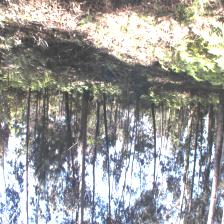trunktrack_idkeyframe: (80, 88, 89, 187), (185, 100, 198, 157), (101, 92, 109, 142), (150, 100, 157, 150), (208, 101, 214, 155), (64, 90, 72, 130), (26, 86, 31, 131), (94, 98, 100, 133)
